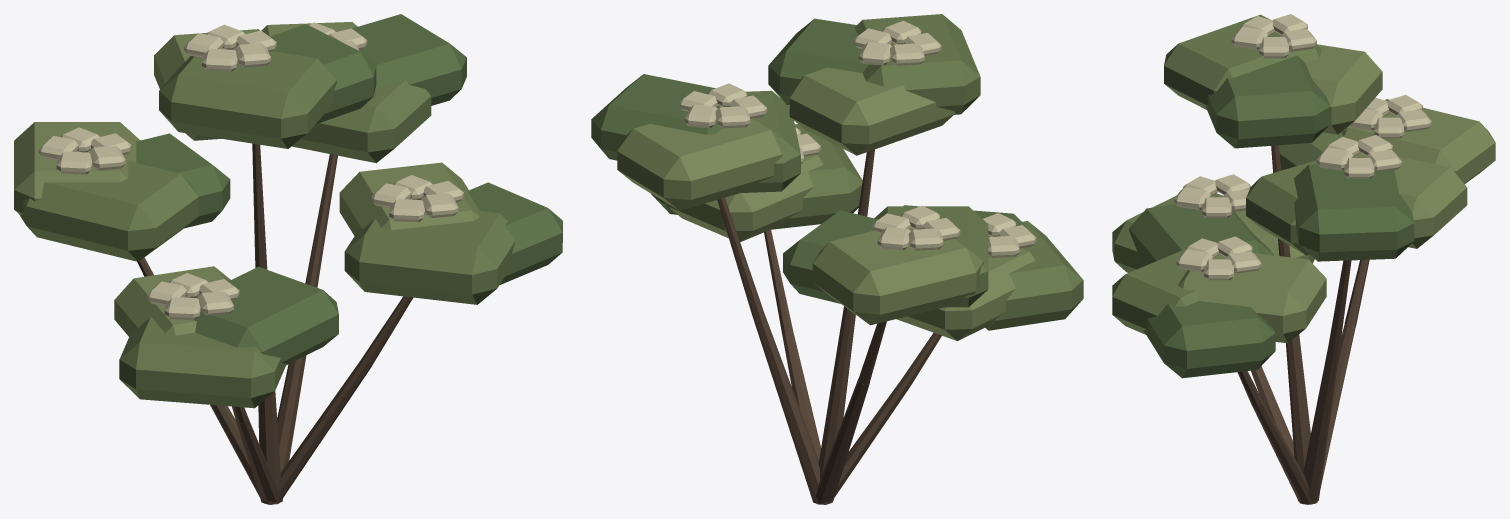
File: elderberry_spring.glb
The picture shows the model from 3 angles, left to right: view 1: azimuth 30°, elevation 25°; view 2: azimuth 150°, elevation 25°; view 3: azimuth 270°, elevation 25°; orthographic projection. The views are drawn at different scales.
Visible parts, largest first — view 1: elderberry_spring; view 2: elderberry_spring; view 3: elderberry_spring.
Part boxes in pixels (x1,y1,x2,y2): elderberry_spring: [14, 14, 562, 504]; elderberry_spring: [591, 14, 1083, 504]; elderberry_spring: [1112, 14, 1495, 504].
Bounding box in the file's own units: 2.16 × 2.31 × 1.8.
